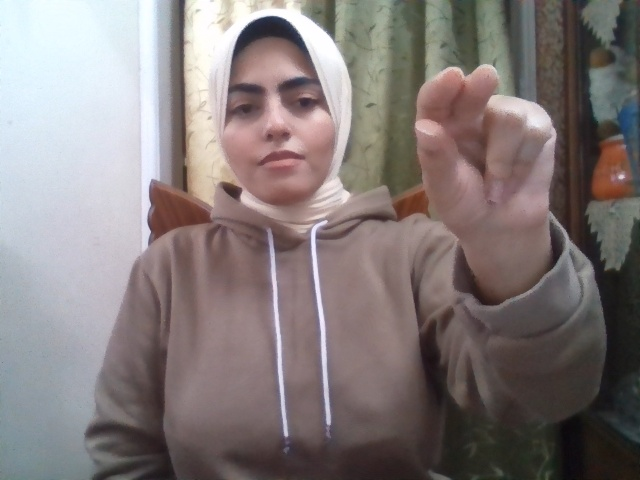no: (416, 63, 557, 234)
